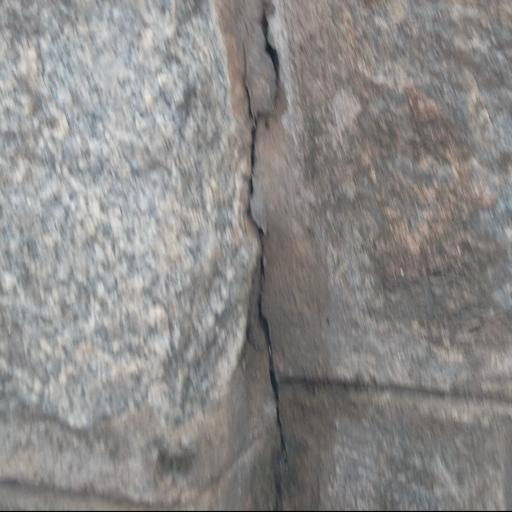major_crack: (228, 0, 315, 504)
